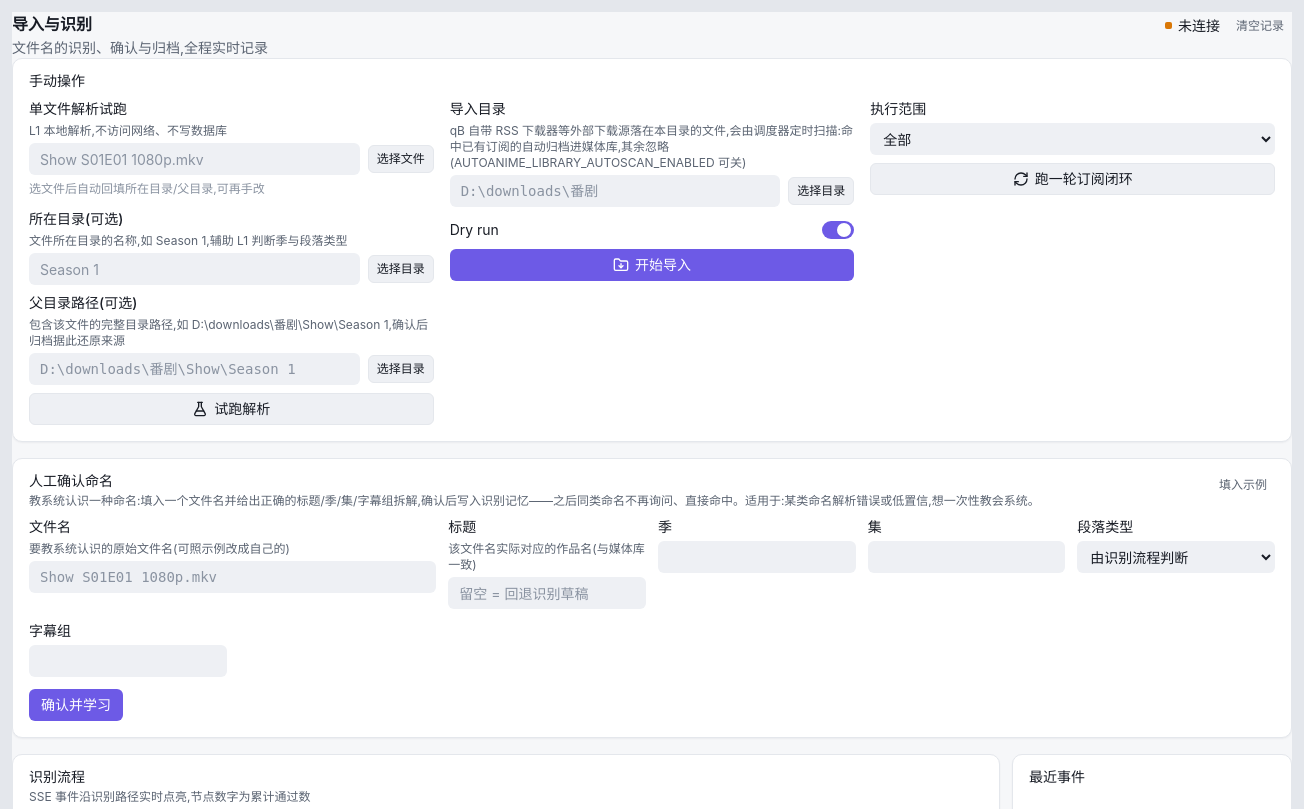
Test: PipelinePage › P1:完成摘要 failed >0 时追加失败计数
Type "D:/downloads" into the field labelled "导入目录" at (615, 191), box x1=450 y1=175 x2=780 y2=207
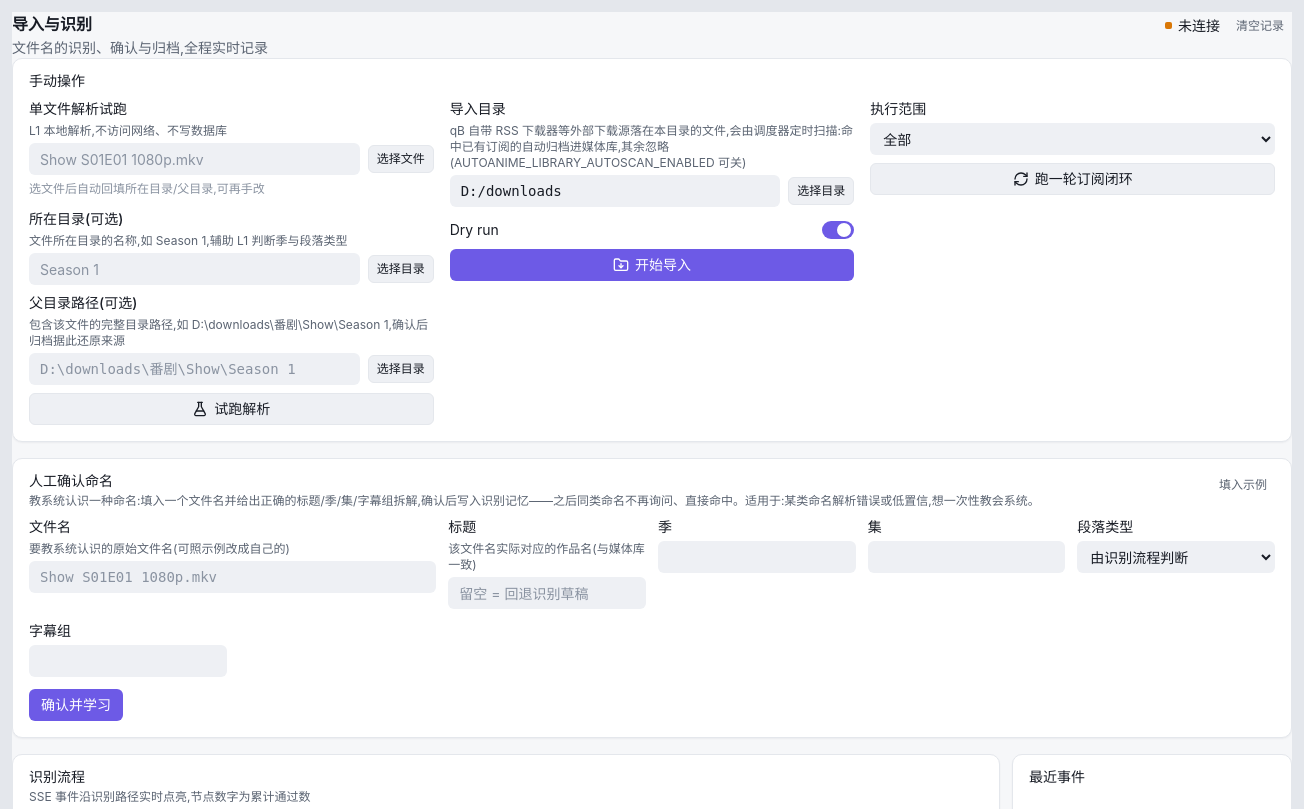
Click the button "开始导入" at (652, 265), box x1=450 y1=249 x2=854 y2=281
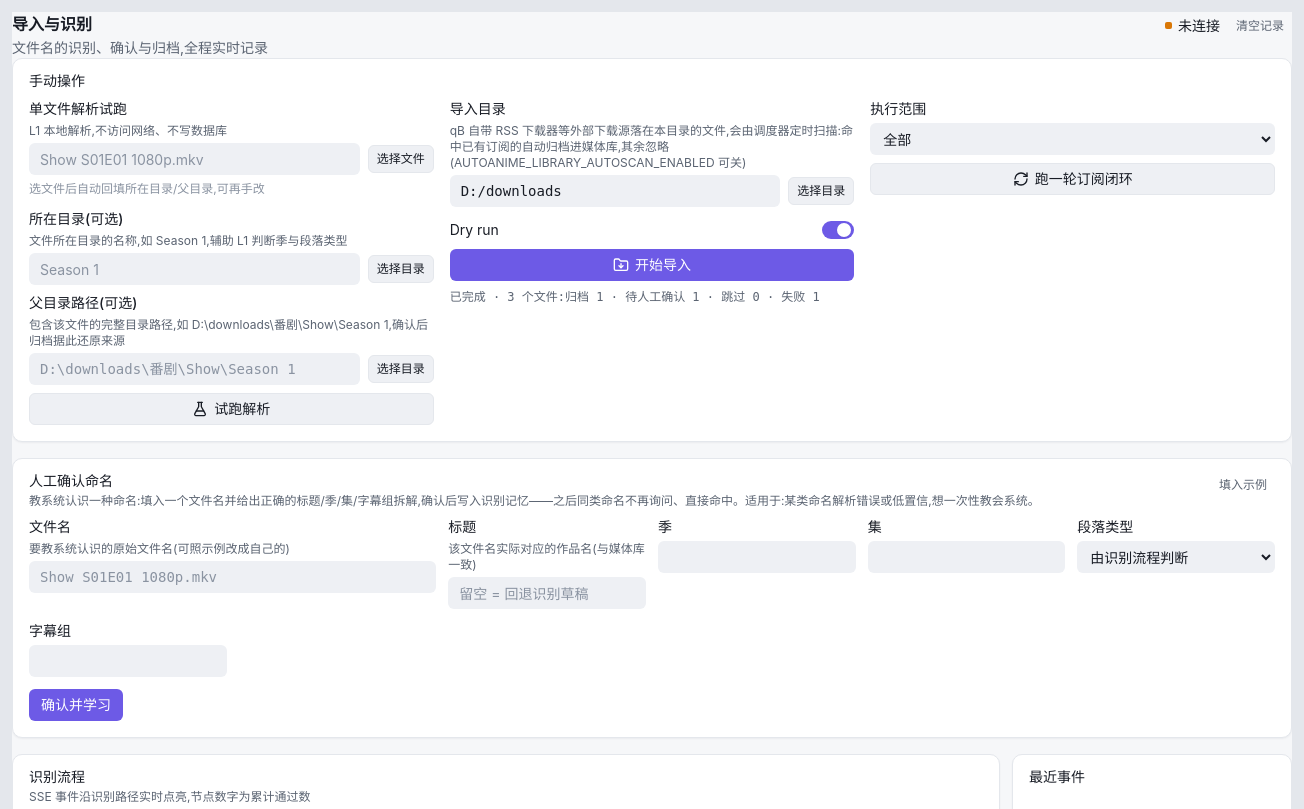
Expected: the text "已完成 · 3 个文件:归档 1 · 待人工确认 1 · 跳过 0 · 失败 1" is shown, x1=450 y1=289 x2=854 y2=305
